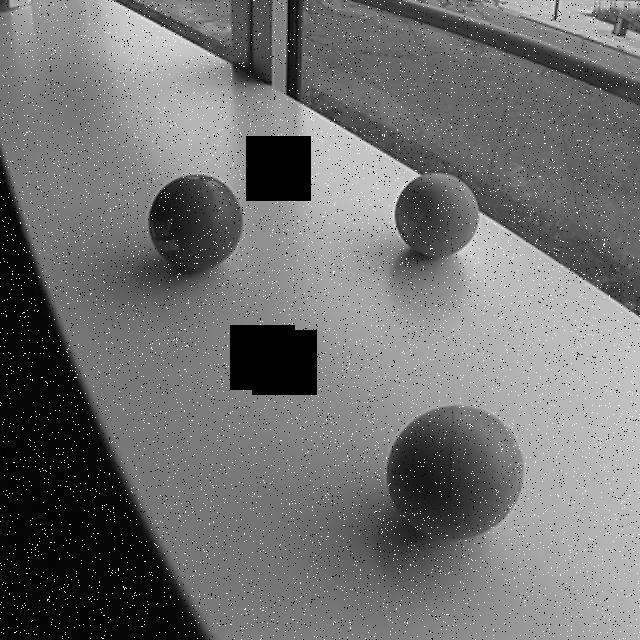ball: (386, 402, 524, 545), (148, 174, 245, 277), (392, 169, 482, 262)
